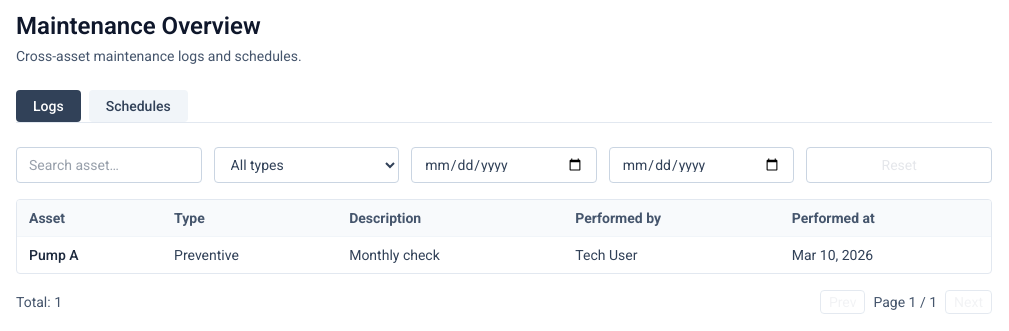
MaintenanceOverviewPage RBAC › Viewer sees data but has no write actions
Check: the text "Monthly check" is shown, box [337,236,563,273]
Click the button "Schedules" at (138, 106), box [89,90,188,122]
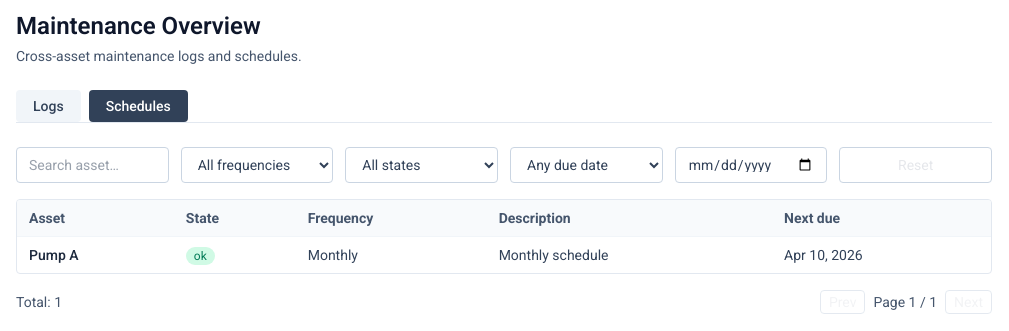
Check: the text "Monthly schedule" is shown, box [487,236,772,273]
